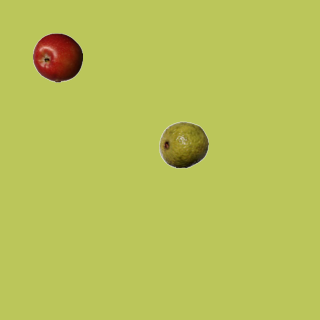Apple Braeburn: (32, 32, 82, 82)
Guava: (158, 119, 208, 169)
